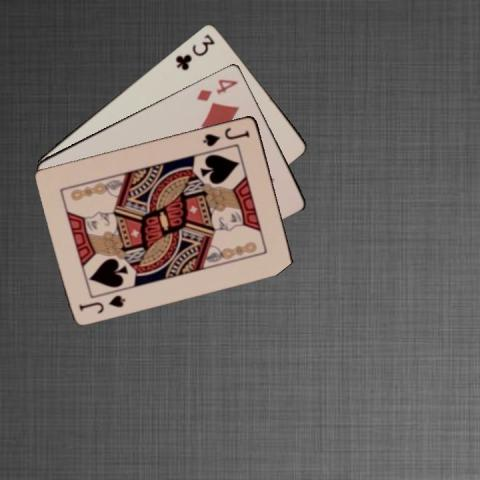3c: (173, 31, 216, 72)
4d: (194, 75, 240, 103)
Js: (76, 291, 127, 315), (200, 124, 251, 147)
